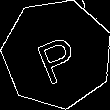P_N: (30, 24, 84, 84)
